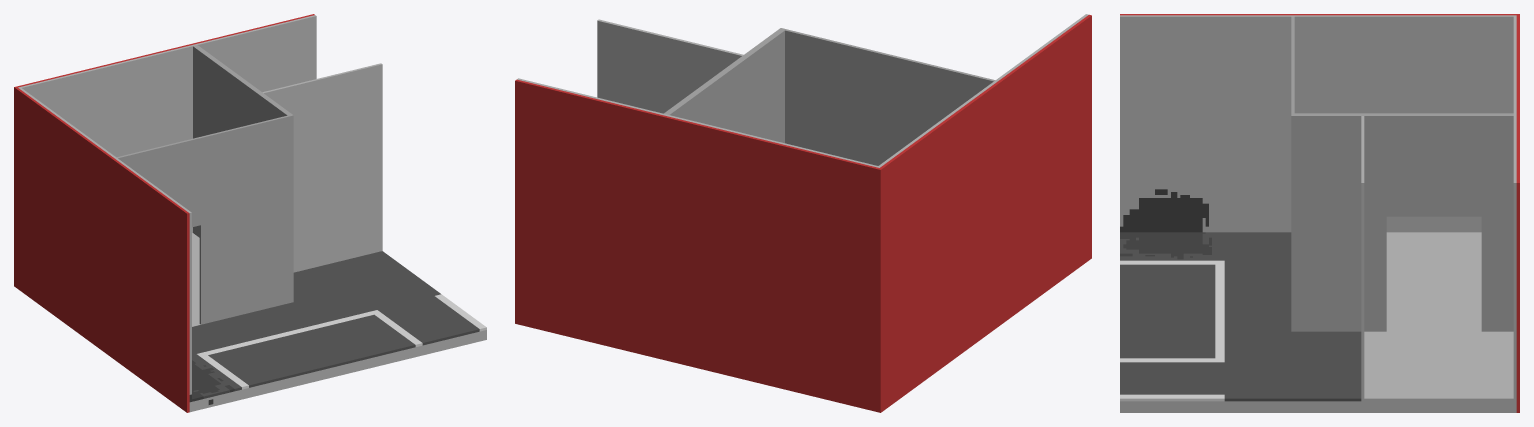
The model's file is 4x2 first (2)-0.obj.
3 views of the same model, side by side, from view 1: azimuth 30°, elevation 25°; view 2: azimuth 150°, elevation 25°; view 3: azimuth 270°, elevation 25° (orthographic). The views are drawn at different scales.
Visible parts, largest first — view 1: 4x2 first (2)-0; view 2: 4x2 first (2)-0; view 3: 4x2 first (2)-0.
Part boxes in pixels (x1,y1,x2,y2): 4x2 first (2)-0: (14,14,486,412); 4x2 first (2)-0: (515,14,1091,412); 4x2 first (2)-0: (1120,14,1519,412).
Size of the model in its own units: 126 by 80 by 126.
1 material, 1 textured.
